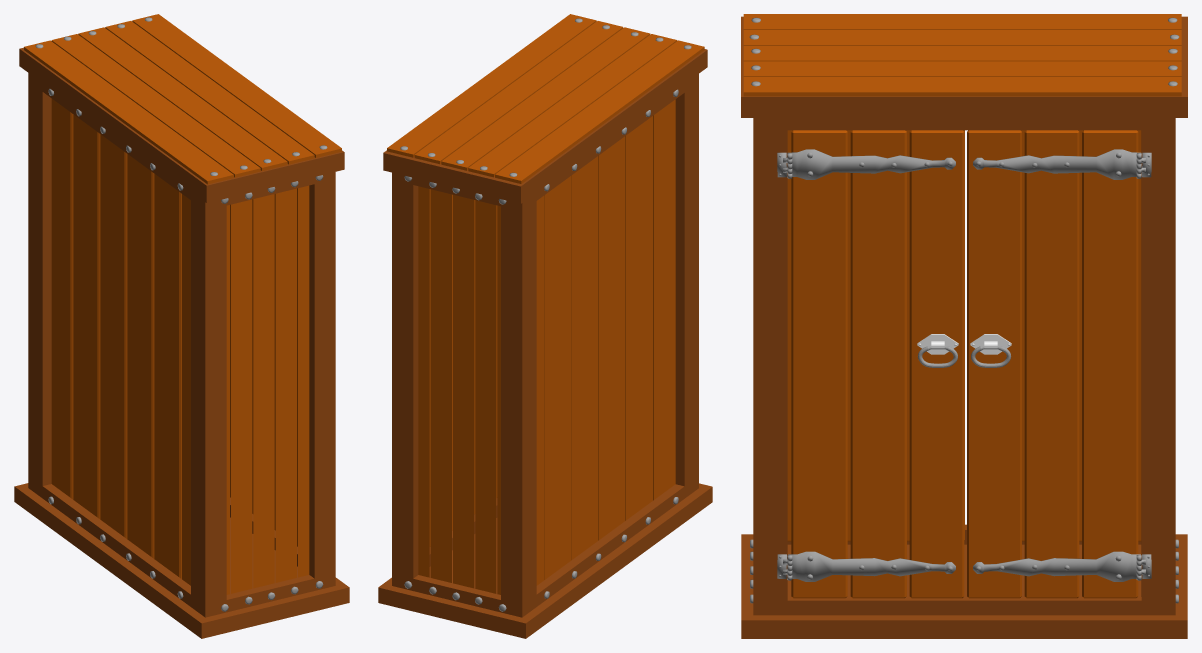
The model's file is Wardrobe.fbx.
3 renders of one model, left to right at view 1: azimuth 30°, elevation 25°; view 2: azimuth 150°, elevation 25°; view 3: azimuth 270°, elevation 25°, orthographic. The views are drawn at different scales.
Parts seen in each view (by area): view 1: Wardrobe_LOD0; view 2: Wardrobe_LOD0; view 3: Wardrobe_LOD0.
Boxes of the visible parts, box(x1,y1,x2,y2) form: Wardrobe_LOD0: box(14, 14, 349, 638); Wardrobe_LOD0: box(378, 14, 712, 638); Wardrobe_LOD0: box(741, 14, 1187, 638).
Size of what is drawn, in the model's own units: 269 by 794 by 590.
